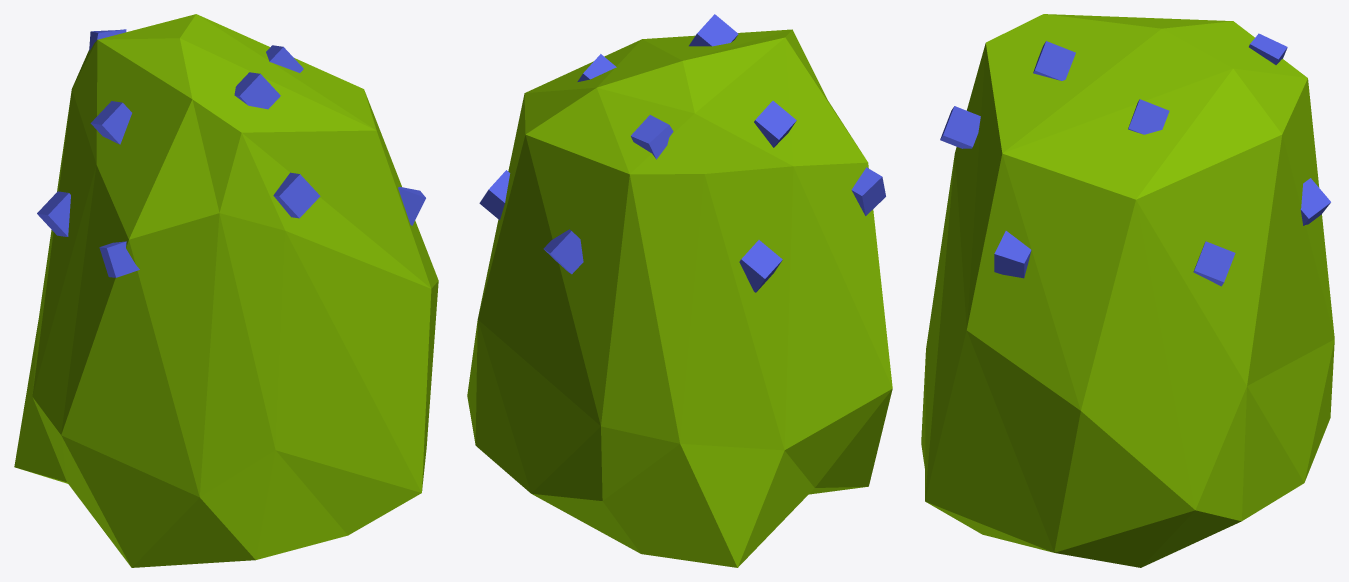
The model's file is Bush_Berries_Blue_Tall.fbx.
The picture shows the model from 3 angles, left to right: view 1: azimuth 30°, elevation 25°; view 2: azimuth 150°, elevation 25°; view 3: azimuth 270°, elevation 25°; orthographic projection. The views are drawn at different scales.
Visible parts, largest first — view 1: Bush_Berries_Blue_Tall; view 2: Bush_Berries_Blue_Tall; view 3: Bush_Berries_Blue_Tall.
Boxes of the visible parts, box(x1,y1,x2,y2) form: Bush_Berries_Blue_Tall: box(14, 14, 438, 567); Bush_Berries_Blue_Tall: box(467, 14, 892, 567); Bush_Berries_Blue_Tall: box(921, 14, 1334, 567).
Size of the model in its own units: 186 by 215 by 170.
